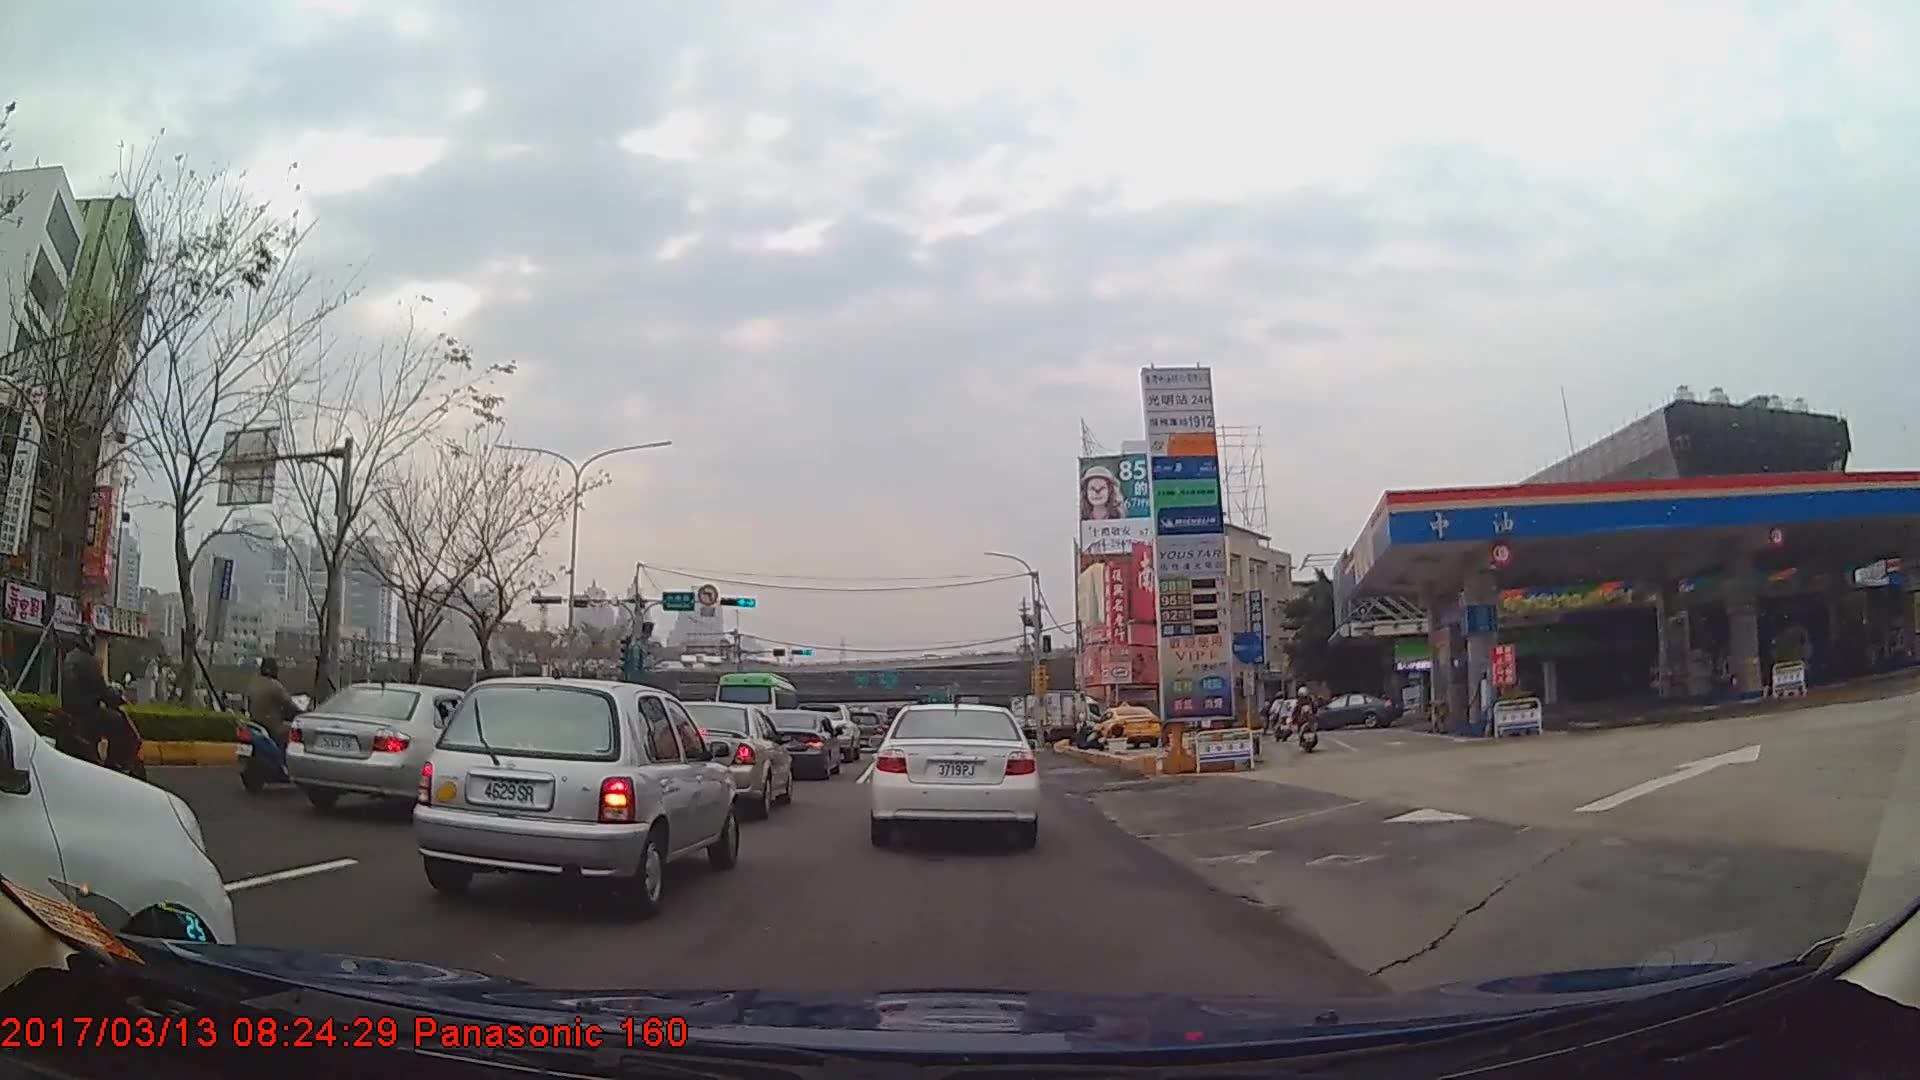rider: (45, 621, 141, 774), (233, 657, 313, 802), (1291, 687, 1320, 753), (1270, 688, 1293, 742)
vehicle: (411, 673, 740, 913), (283, 676, 522, 816), (869, 699, 1041, 849), (645, 698, 792, 817), (755, 706, 842, 779), (713, 671, 802, 741), (1006, 684, 1102, 742), (1300, 689, 1400, 729), (1092, 702, 1158, 748)
